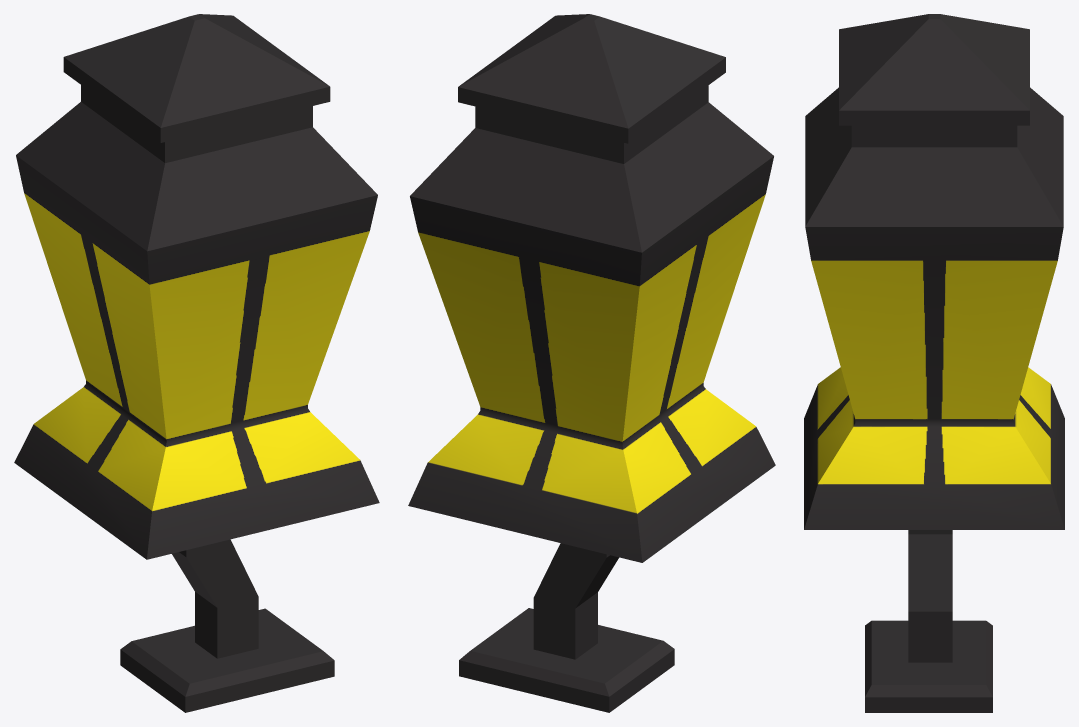
Rendered from ENV0510002.FBX.
3 views of the same model, side by side, from view 1: azimuth 30°, elevation 25°; view 2: azimuth 150°, elevation 25°; view 3: azimuth 270°, elevation 25° (orthographic). The views are drawn at different scales.
Parts seen in each view (by area): view 1: ENV0510002; view 2: ENV0510002; view 3: ENV0510002.
Part boxes in pixels (<box>): ENV0510002: <box>14,14,379,712</box>; ENV0510002: <box>408,14,775,712</box>; ENV0510002: <box>804,14,1064,712</box>.
Bounding box in the file's own units: 10.08 × 27.22 × 9.94.
1 material, 1 textured.
